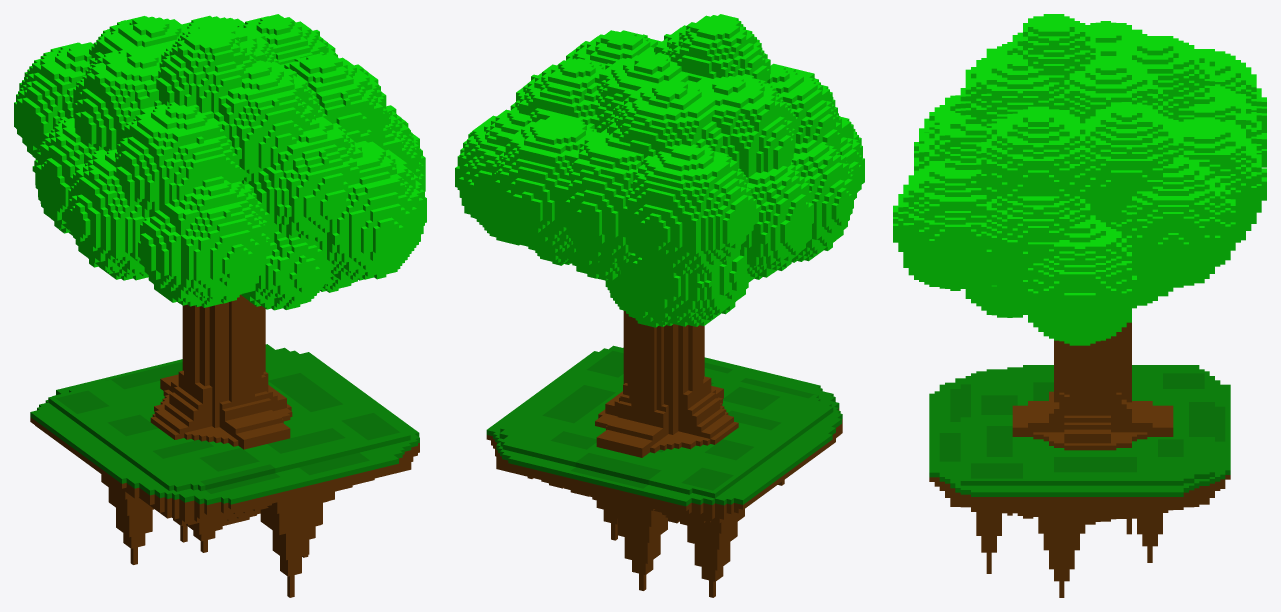
Rendered from TerraVoadora.obj.
3 views of the same model, side by side, from view 1: azimuth 30°, elevation 25°; view 2: azimuth 150°, elevation 25°; view 3: azimuth 270°, elevation 25° (orthographic). The views are drawn at different scales.
Size of the model in its own units: 7.5 by 11.2 by 7.2.
1 material, 1 textured.
